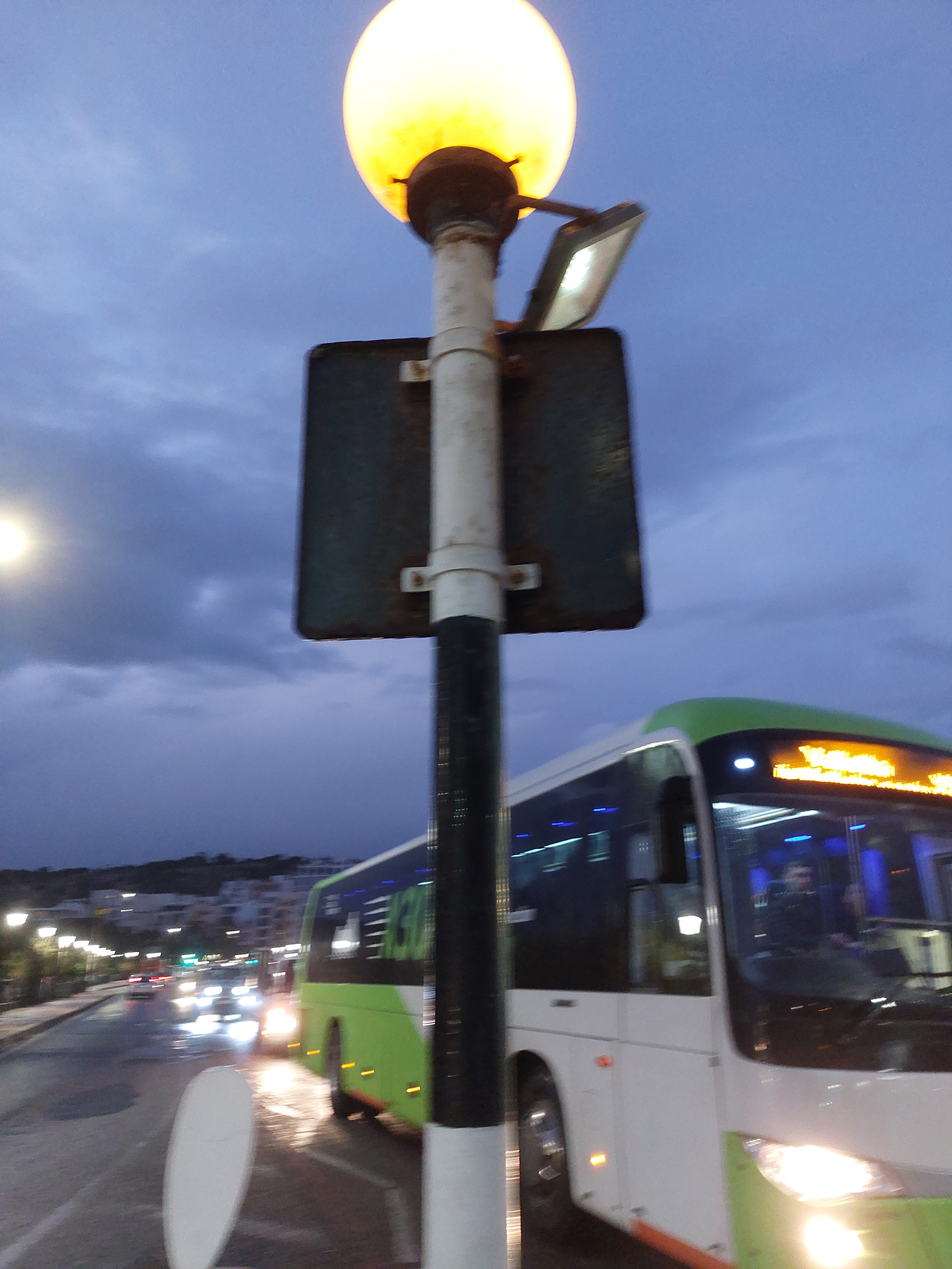Back-Unknown: (294, 326, 646, 641)
Directional Sign: (163, 1066, 257, 1269)
